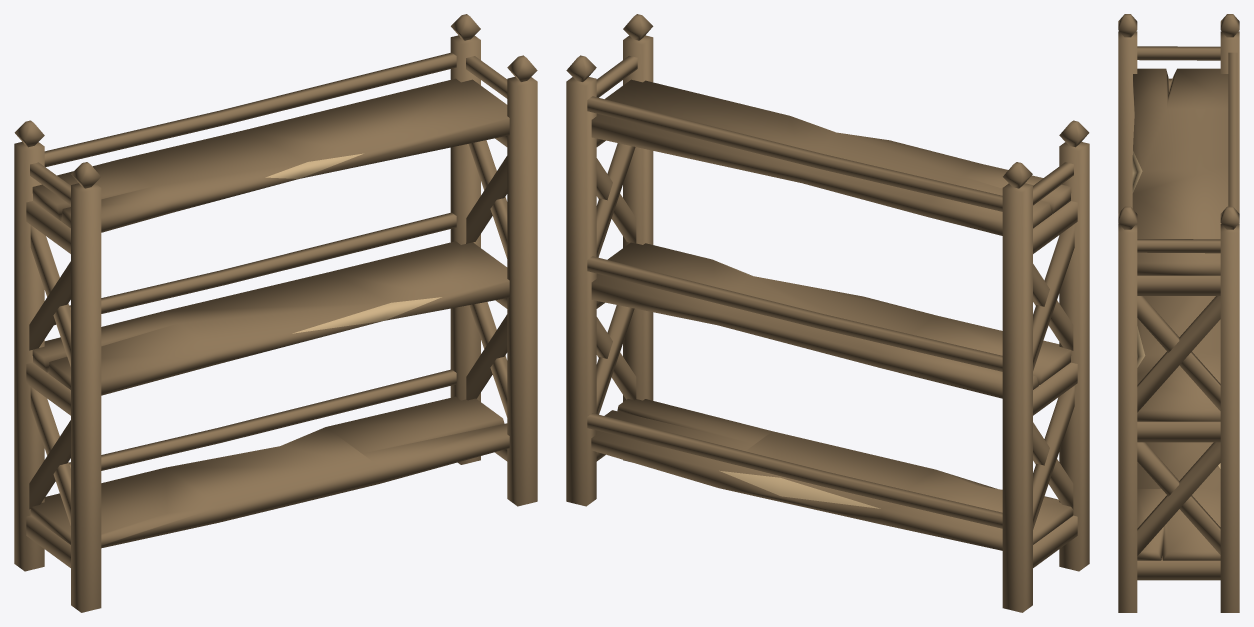
File: rpgpp_ag_shelf_wood_02a.fbx
The picture shows the model from 3 angles, left to right: view 1: azimuth 30°, elevation 25°; view 2: azimuth 150°, elevation 25°; view 3: azimuth 270°, elevation 25°; orthographic projection. The views are drawn at different scales.
Parts seen in each view (by area): view 1: rpgpp_ag_shelf_wood_02a; view 2: rpgpp_ag_shelf_wood_02a; view 3: rpgpp_ag_shelf_wood_02a.
Boxes of the visible parts, x1,y1,x2,y2 form: rpgpp_ag_shelf_wood_02a: [14, 14, 537, 612]; rpgpp_ag_shelf_wood_02a: [566, 14, 1089, 612]; rpgpp_ag_shelf_wood_02a: [1118, 14, 1239, 612].
Bounding box in the file's own units: 2 × 1.86 × 0.51.
